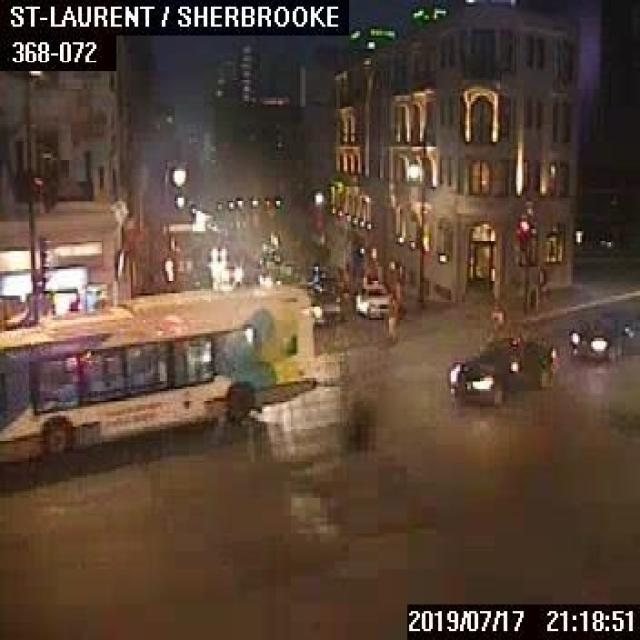bus: (0, 282, 316, 464)
vehicle: (449, 336, 555, 402), (569, 307, 638, 360), (355, 282, 394, 317), (309, 288, 342, 326), (308, 265, 333, 292), (219, 263, 242, 282)
